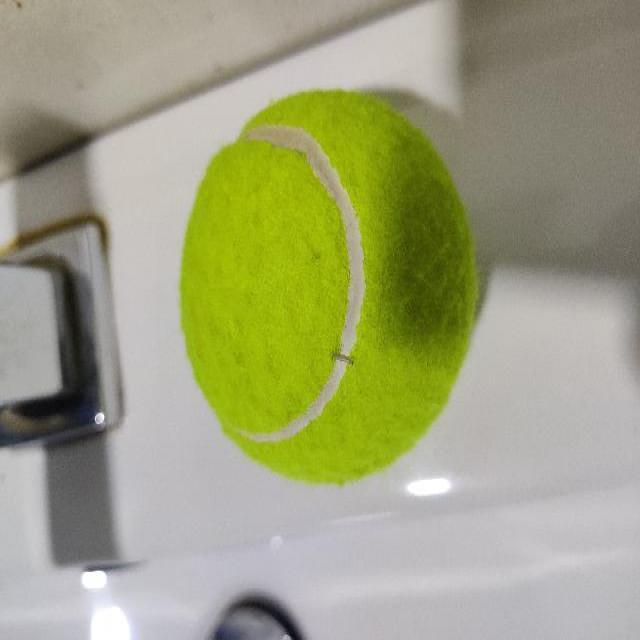tennis-ball: (177, 84, 484, 486)
